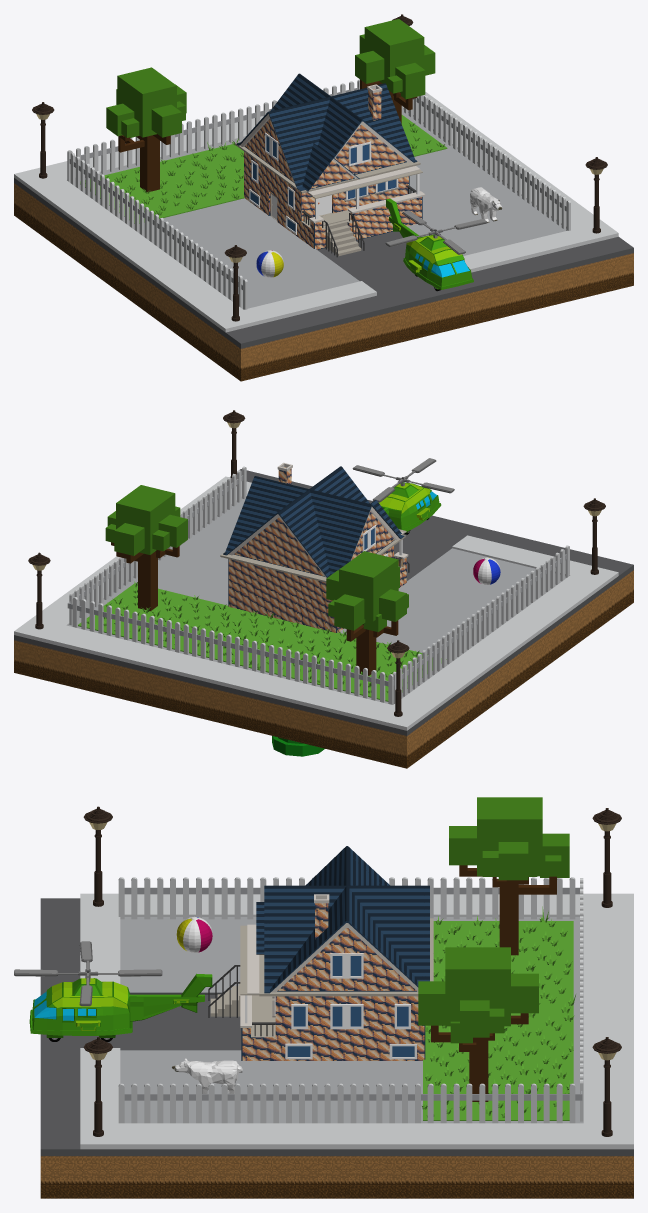
3 renders of one model, top to bottom at view 1: azimuth 30°, elevation 25°; view 2: azimuth 150°, elevation 25°; view 3: azimuth 270°, elevation 25°, orthographic. The views are drawn at different scales.
Parts seen in each view (by area): view 1: Cube.004, Cube.430, VEHICLES_HELICOPTER, ANIMAL_OSO_POLAR, OBJRANDOM_BEACHBALL; view 2: Cube.004, Cube.430, VEHICLES_HELICOPTER, UNDERGROUND_PIPES, OBJRANDOM_BEACHBALL; view 3: Cube.004, Cube.430, VEHICLES_HELICOPTER, ANIMAL_OSO_POLAR, OBJRANDOM_BEACHBALL.
Part boxes in pixels (box(x1,y1,x2,y2)): Cube.004: box(14, 14, 633, 381); Cube.430: box(235, 73, 425, 257); VEHICLES_HELICOPTER: box(385, 198, 487, 291); ANIMAL_OSO_POLAR: box(470, 187, 502, 222); OBJRANDOM_BEACHBALL: box(256, 250, 283, 277); Cube.004: box(14, 410, 633, 768); Cube.430: box(220, 462, 409, 632); VEHICLES_HELICOPTER: box(352, 458, 454, 534); UNDERGROUND_PIPES: box(272, 736, 324, 756); OBJRANDOM_BEACHBALL: box(473, 557, 500, 584); Cube.004: box(40, 797, 633, 1198); Cube.430: box(208, 846, 433, 1060); VEHICLES_HELICOPTER: box(14, 941, 212, 1041); ANIMAL_OSO_POLAR: box(172, 1058, 242, 1093); OBJRANDOM_BEACHBALL: box(176, 916, 212, 952).
Size of the model in its own units: 4000 by 2184 by 4179.
Materials: 35 (4 with a texture image).
